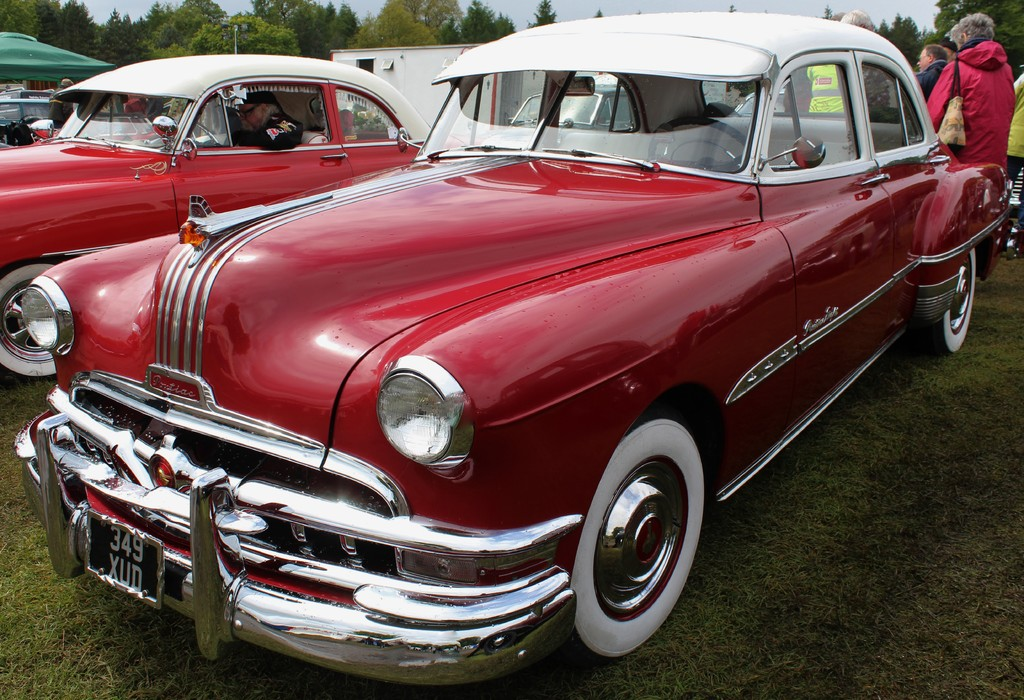Person: (923, 12, 1015, 171), (222, 87, 303, 151), (840, 11, 890, 105), (807, 14, 845, 110), (1004, 66, 1024, 180), (918, 43, 947, 101), (46, 79, 73, 129), (941, 40, 957, 56)
